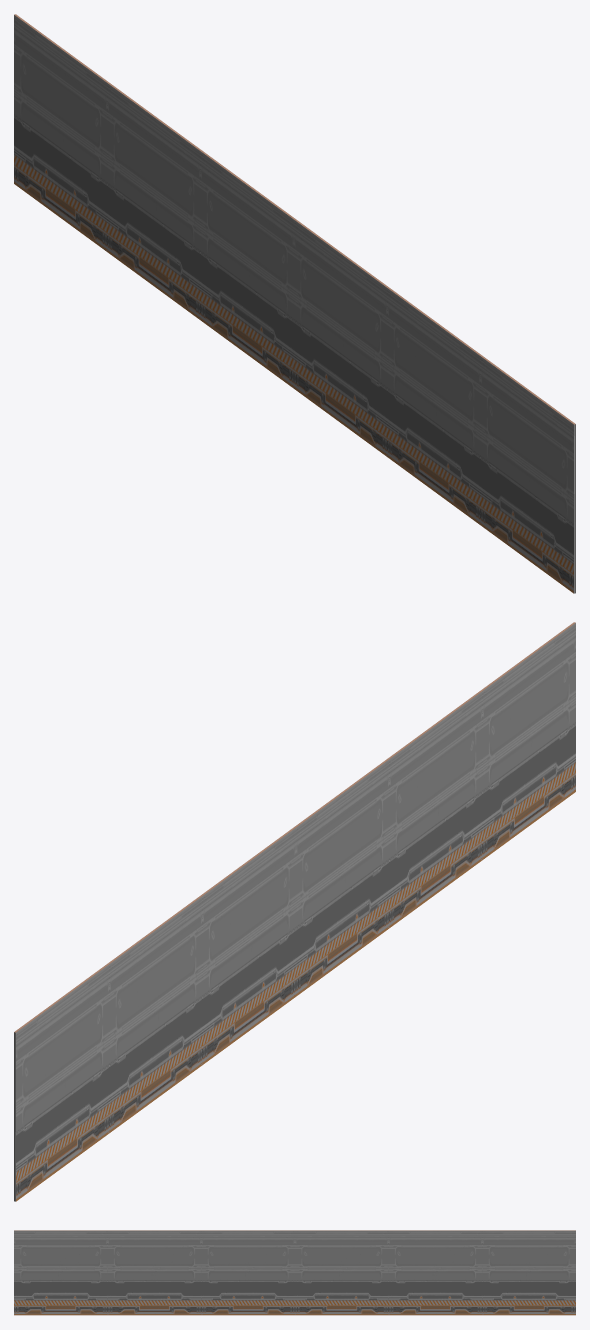
Rendered from Pfb_JALB_WallPart2_Line__41.fbx.
The picture shows the model from 3 angles, top to bottom: view 1: azimuth 30°, elevation 25°; view 2: azimuth 150°, elevation 25°; view 3: azimuth 270°, elevation 25°; orthographic projection. The views are drawn at different scales.
Visible parts, largest first — view 1: MAT_JLABWall03; view 2: MAT_JLABWall03; view 3: MAT_JLABWall03.
Part boxes in pixels (x1,y1,x2,y2): MAT_JLABWall03: (14, 14, 575, 593); MAT_JLABWall03: (14, 622, 575, 1201); MAT_JLABWall03: (14, 1230, 575, 1315).
Bounding box in the file's own units: 0.0488 × 4 × 24.
Materials: 1 (1 with a texture image).
